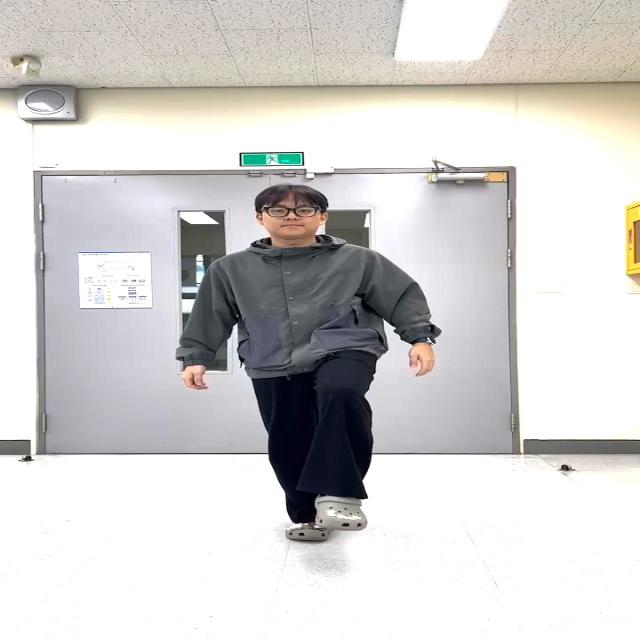leg: (307, 348, 391, 535)
